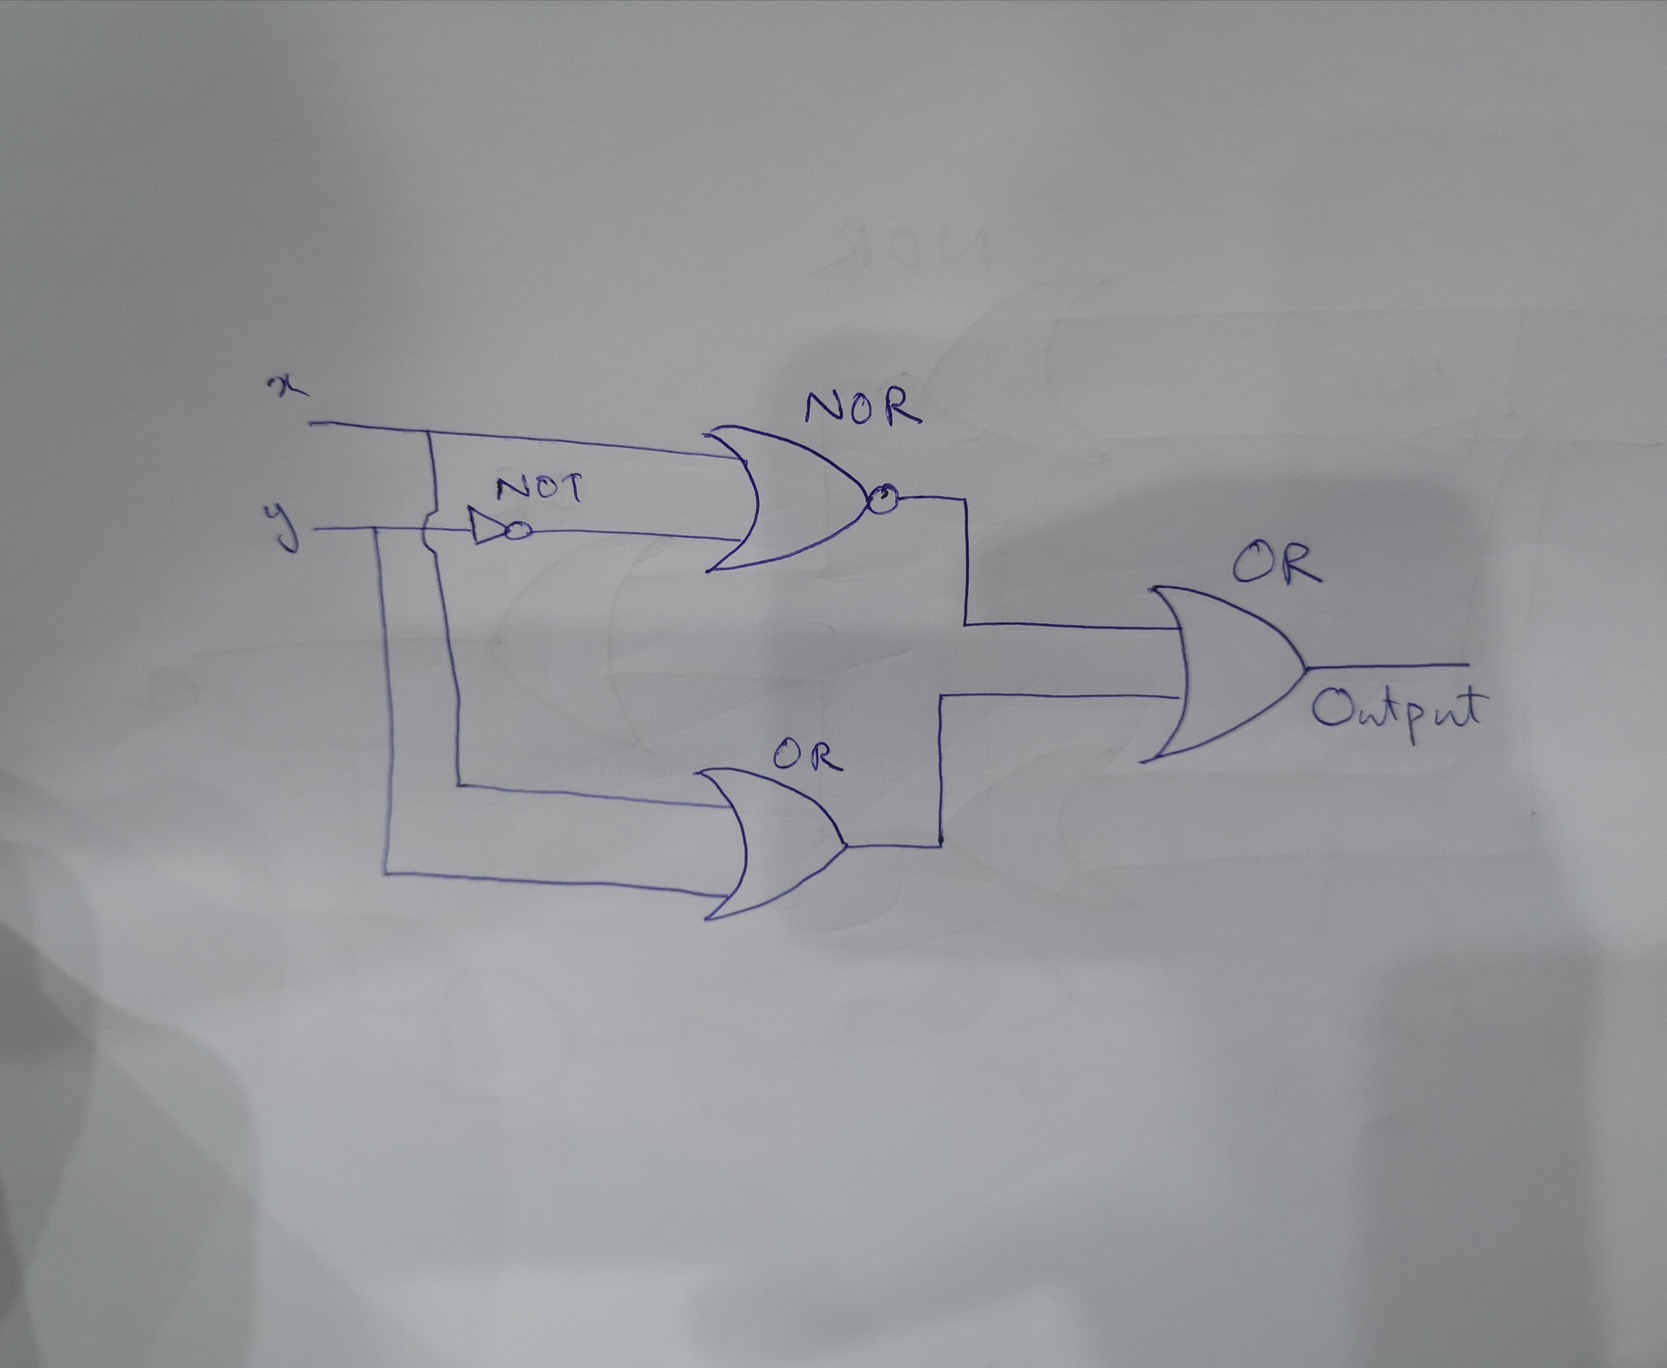crossover: (414, 505, 449, 558)
junction: (928, 834, 953, 857), (953, 487, 977, 511), (953, 613, 976, 636), (449, 773, 469, 793), (377, 861, 396, 883), (418, 421, 438, 439), (932, 688, 951, 705), (366, 521, 381, 534)
nor: (698, 420, 905, 577)
not: (462, 503, 539, 551)
or: (1128, 576, 1315, 771), (690, 762, 851, 930)
terminal: (298, 414, 320, 431), (306, 521, 325, 537), (1462, 656, 1480, 672)
text: (1306, 680, 1488, 753), (798, 381, 928, 438), (1225, 537, 1326, 595), (490, 467, 590, 510), (768, 732, 847, 777), (258, 497, 303, 557), (262, 372, 309, 400)
